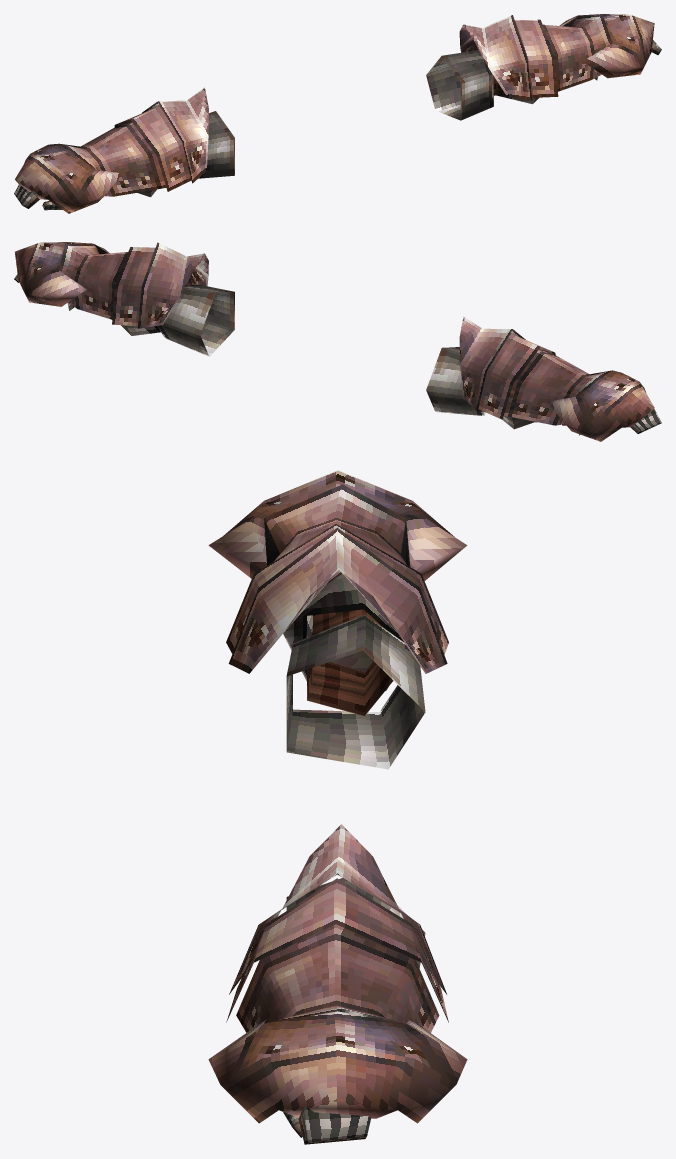
The model's file is m_gauntlet067.obj.
3 views of the same model, one above another, from view 1: azimuth 30°, elevation 25°; view 2: azimuth 150°, elevation 25°; view 3: azimuth 270°, elevation 25° (orthographic). The views are drawn at different scales.
Visible parts, largest first — view 1: mesh00; view 2: mesh00; view 3: mesh00.
Part boxes in pixels (x1=…): mesh00: x1=14, y1=14, x2=661, y2=213; mesh00: x1=14, y1=242, x2=661, y2=441; mesh00: x1=208, y1=470, x2=467, y2=1144.
Bounding box in the file's own units: 180 × 24.4 × 31.5.
Materials: 1 (1 with a texture image).
